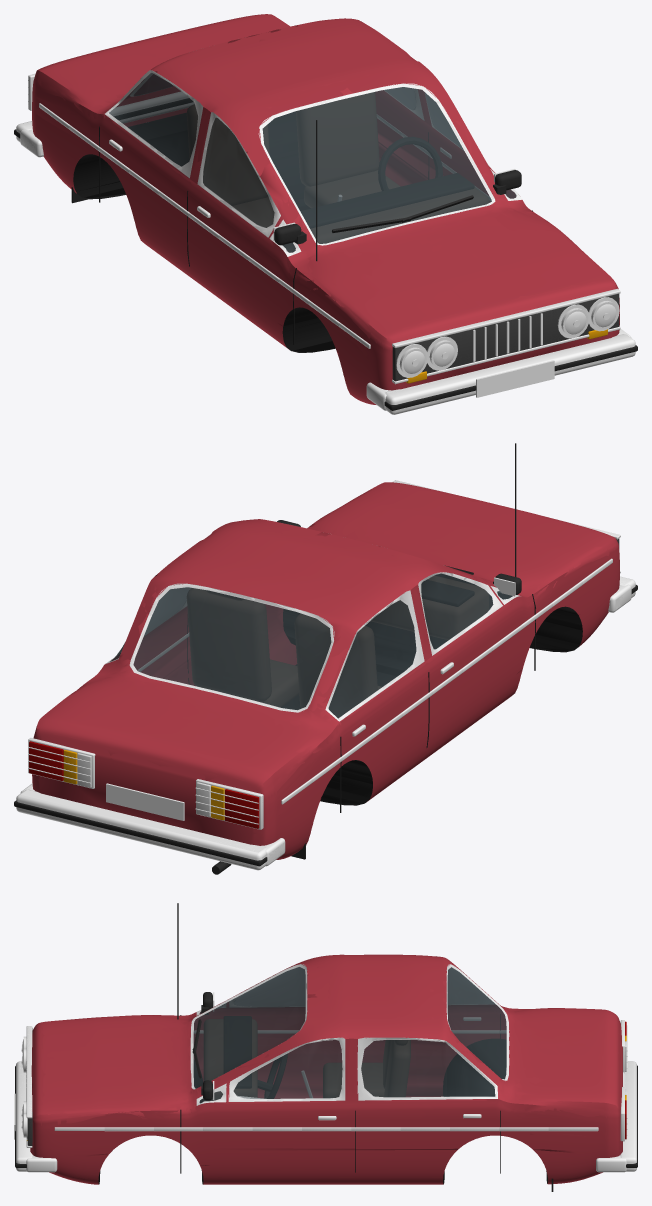
File: vaz2106.glb
3 views of the same model, one above another, from view 1: azimuth 30°, elevation 25°; view 2: azimuth 150°, elevation 25°; view 3: azimuth 270°, elevation 25° (orthographic). The views are drawn at different scales.
Parts seen in each view (by area): view 1: LOD_hi, LOD0; view 2: LOD_hi, LOD0; view 3: LOD_hi, LOD0.
Boxes of the visible parts, x1,y1,x2,y2 form: LOD_hi: (14, 14, 637, 414); LOD0: (14, 21, 635, 409); LOD_hi: (14, 443, 637, 874); LOD0: (16, 443, 629, 873); LOD_hi: (14, 903, 637, 1191); LOD0: (14, 918, 636, 1183).
Size of what is drawn, in the model's own units: 1.66 by 1.59 by 4.39.
